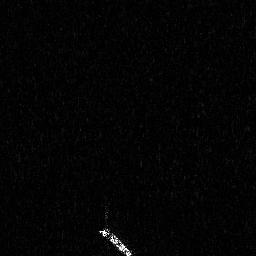ship: (96, 223, 138, 256)
